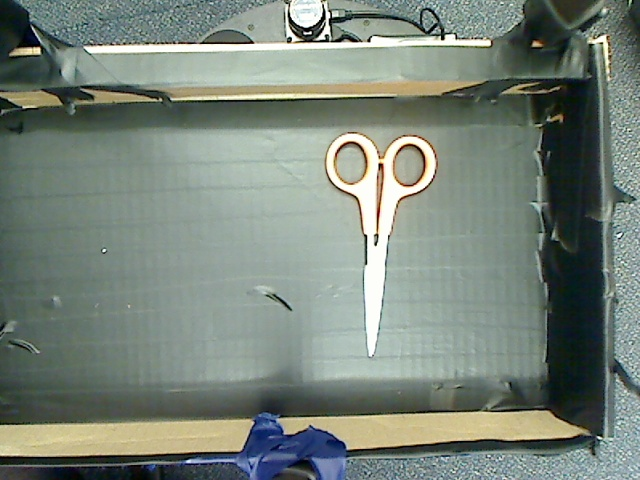scissors: (315, 113, 444, 360)
